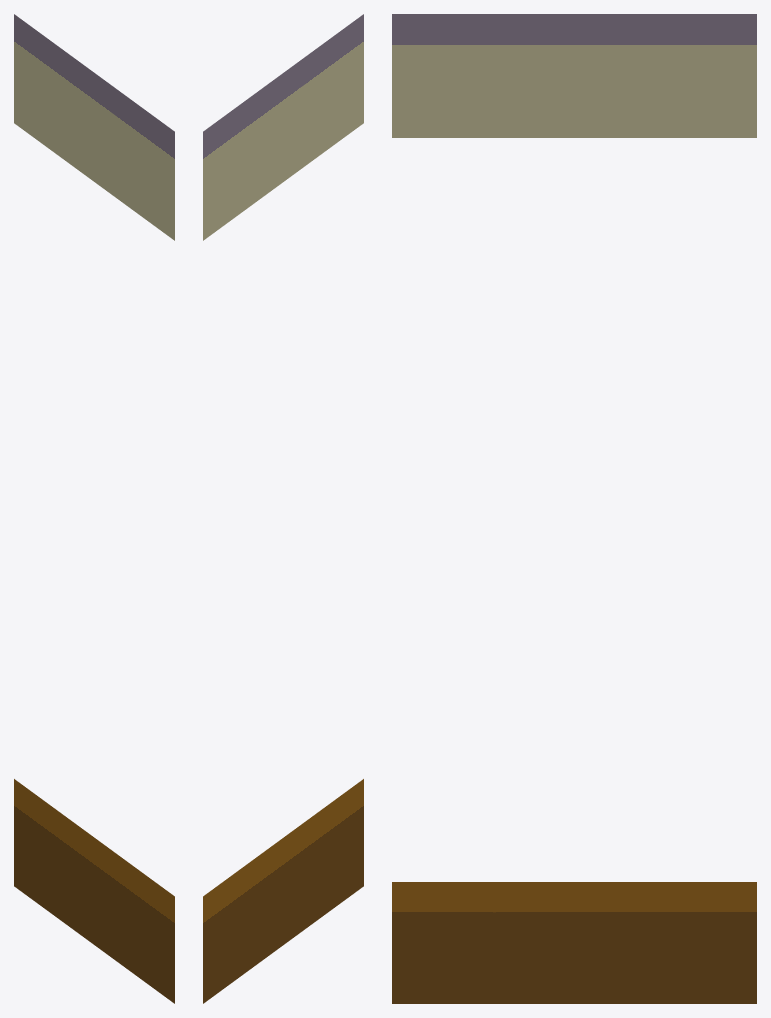
The picture shows the model from 3 angles, left to right: view 1: azimuth 30°, elevation 25°; view 2: azimuth 150°, elevation 25°; view 3: azimuth 270°, elevation 25°; orthographic projection. The views are drawn at different scales.
Bounding box in the file's own units: 0 × 2.99 × 1.
Materials: 1 (1 with a texture image).
